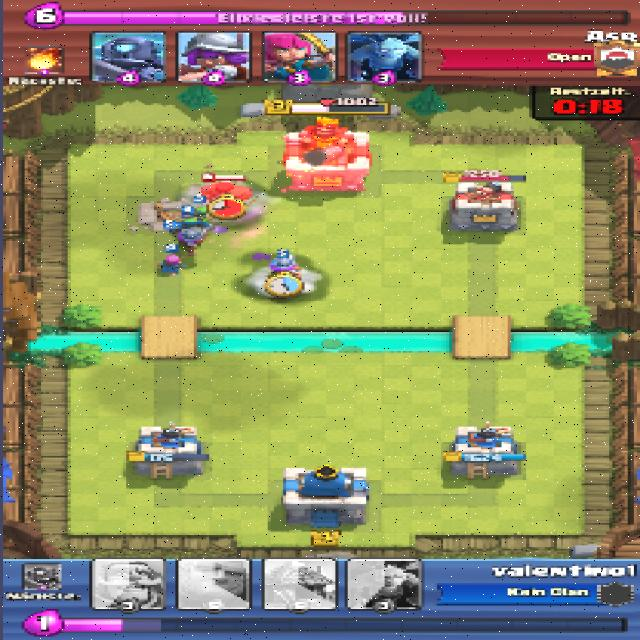Enemy-Hunter: (199, 182, 250, 205)
Player-Archer: (157, 254, 188, 274)
Player-Musketeer: (266, 253, 301, 286), (165, 224, 213, 248)
Player-SpearGoblin: (180, 206, 215, 220), (178, 215, 210, 230)
